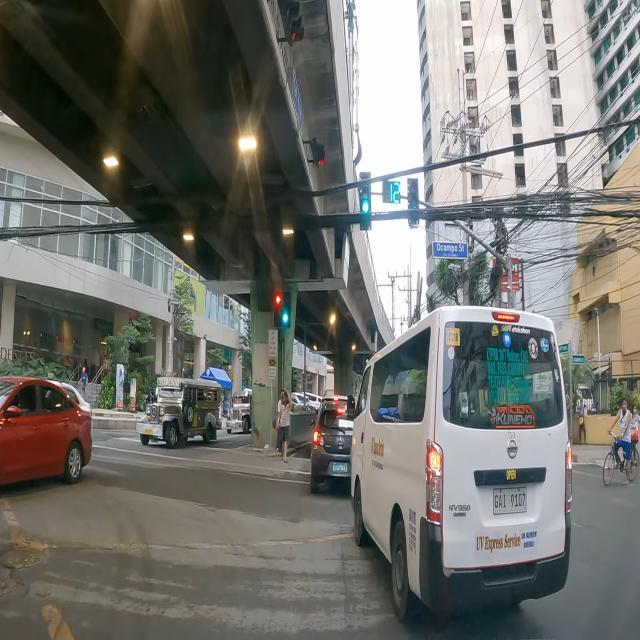bike: (602, 396, 640, 488)
car: (347, 306, 572, 626), (0, 374, 94, 498), (308, 402, 354, 495)
jeepney: (134, 376, 223, 450), (226, 390, 253, 435)
